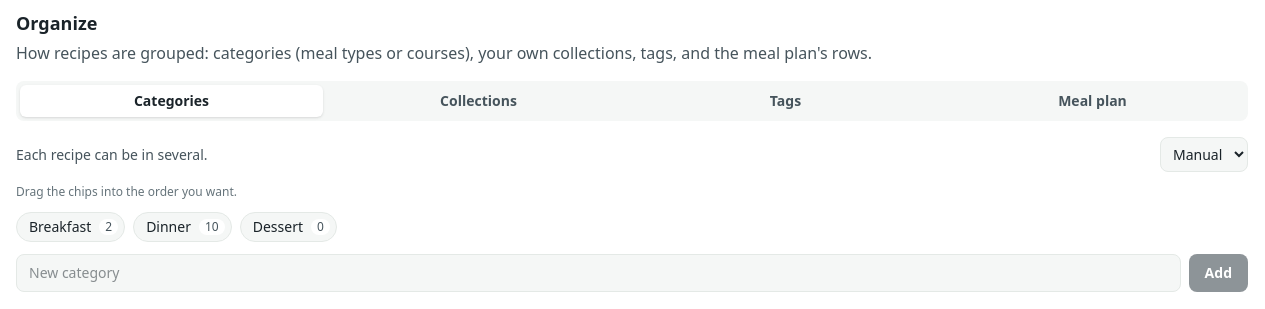
it: Settings › Recipes, organized › one list at a time: Categories, Collections, Tags, Meal plan
The width and height of the screenshot is (1265, 309).
expect the list named "Categories" is shown: met, box [16,212,337,242]
Click the tab "Tags". click: (786, 101)
box: [634,85,937,117]
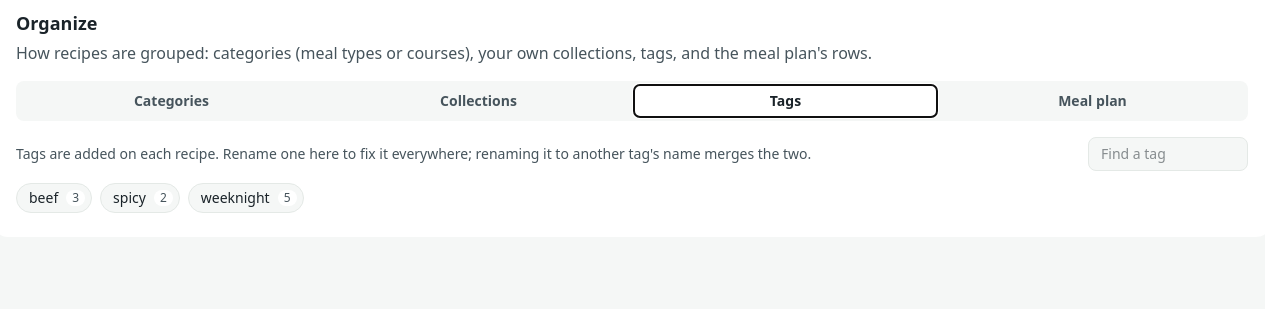
expect the list named "Tags" is shown: met, box [16,183,304,213]
